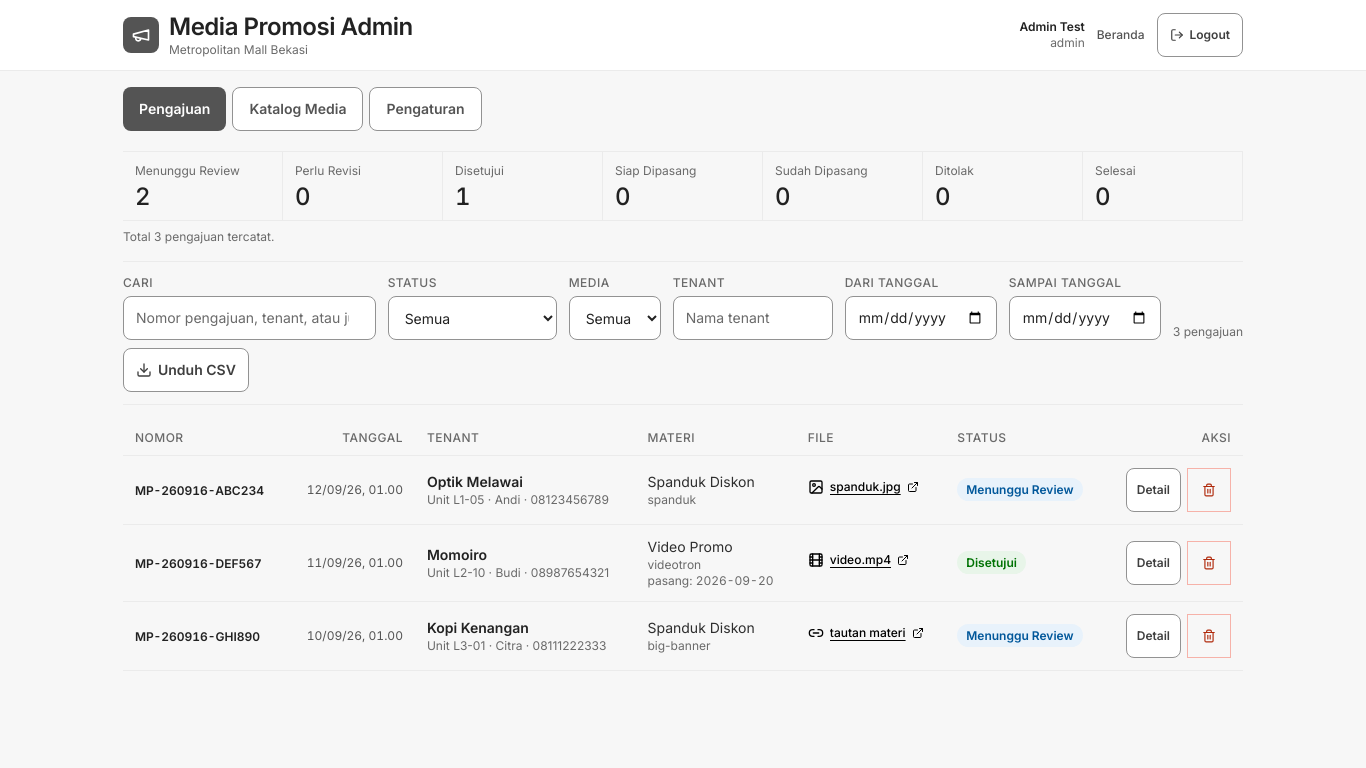
it: AdminDashboardPage › menawarkan pemasangan hanya untuk materi Disetujui (FR-040)
The image size is (1366, 768).
expect the text "Momoiro" is shown: met, box [427,546,487,562]
Click the button "Detail" in the row of "MP-260916-DEF567" at (1153, 562), box [1126,540,1181,584]
(page scrolled)
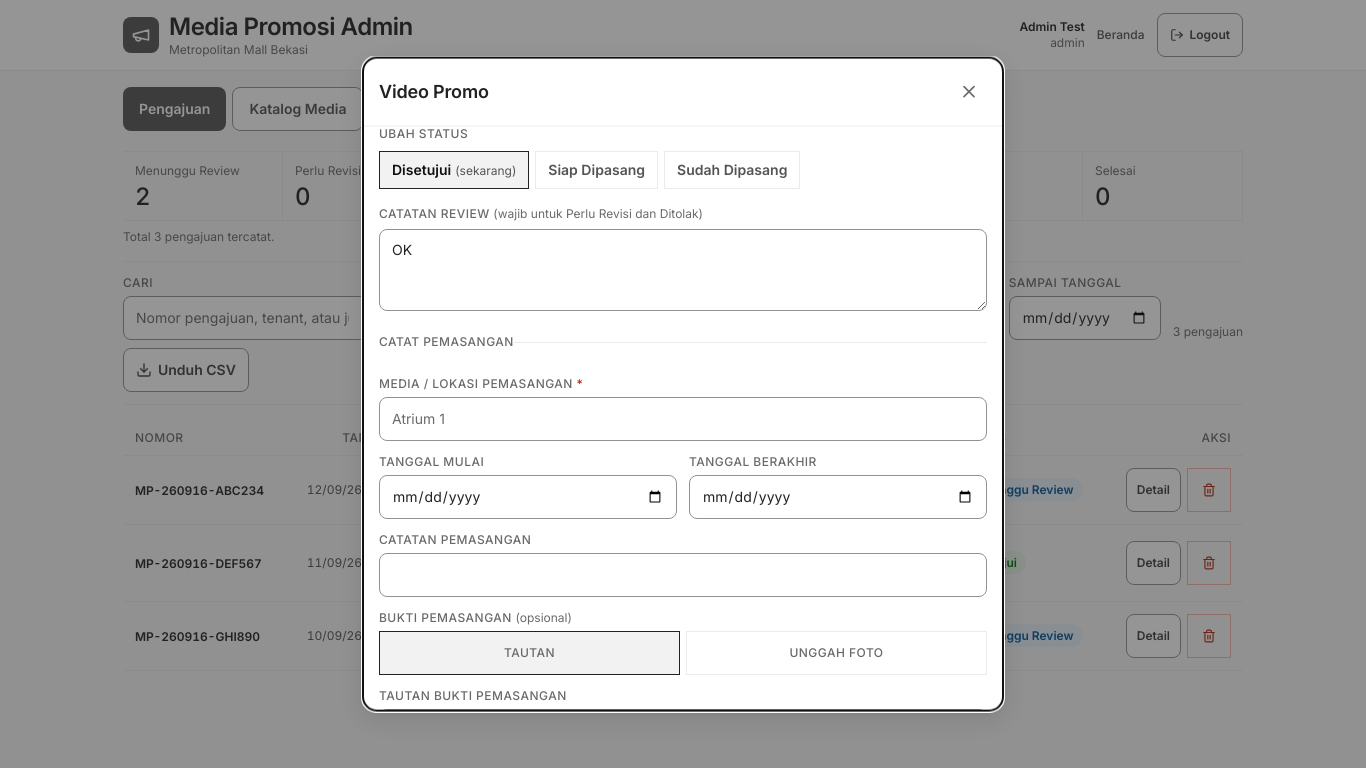
expect the element "Catat pemasangan" is shown: met, box [379,333,987,710]
expect the field labelled "Media / lokasi pemasangan *" is shown: met, box [379,397,987,441]
